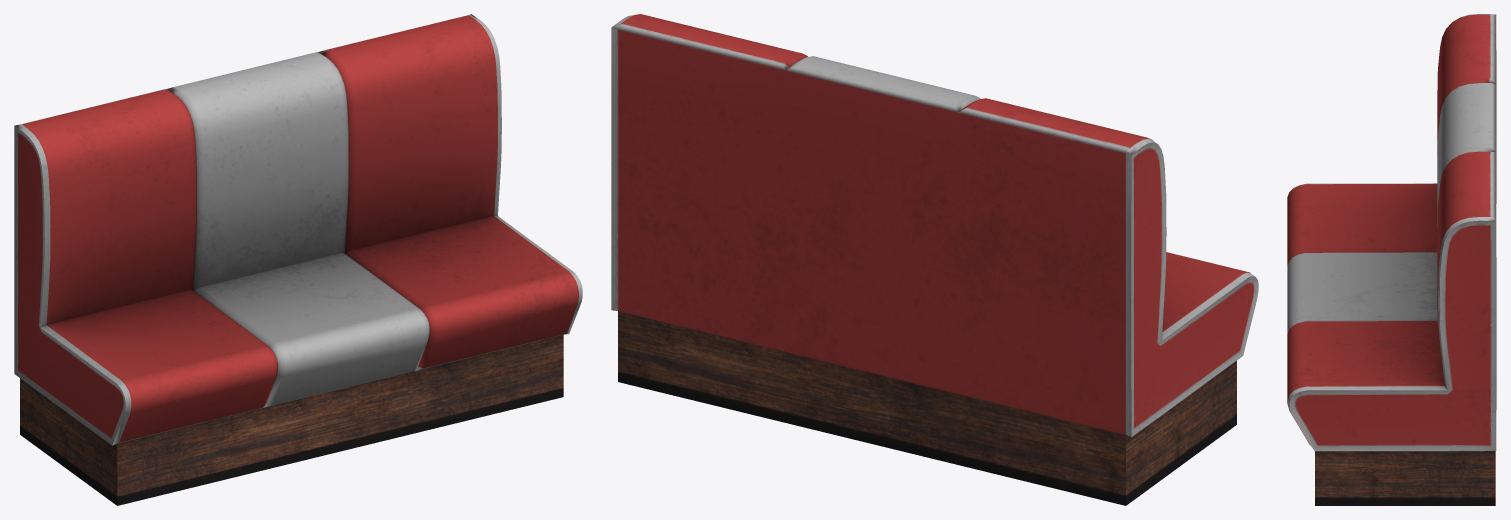
File: Diner Bench 2.fbx
The picture shows the model from 3 angles, left to right: view 1: azimuth 30°, elevation 25°; view 2: azimuth 150°, elevation 25°; view 3: azimuth 270°, elevation 25°; orthographic projection. The views are drawn at different scales.
Parts seen in each view (by area): view 1: Diner_Bench_2; view 2: Diner_Bench_2; view 3: Diner_Bench_2.
Boxes of the visible parts, bbox=[...] form: Diner_Bench_2: bbox=[14, 14, 582, 505]; Diner_Bench_2: bbox=[611, 14, 1258, 505]; Diner_Bench_2: bbox=[1287, 14, 1496, 505].
Bounding box in the file's own units: 175 × 114 × 74.83.
Materials: 1 (1 with a texture image).
